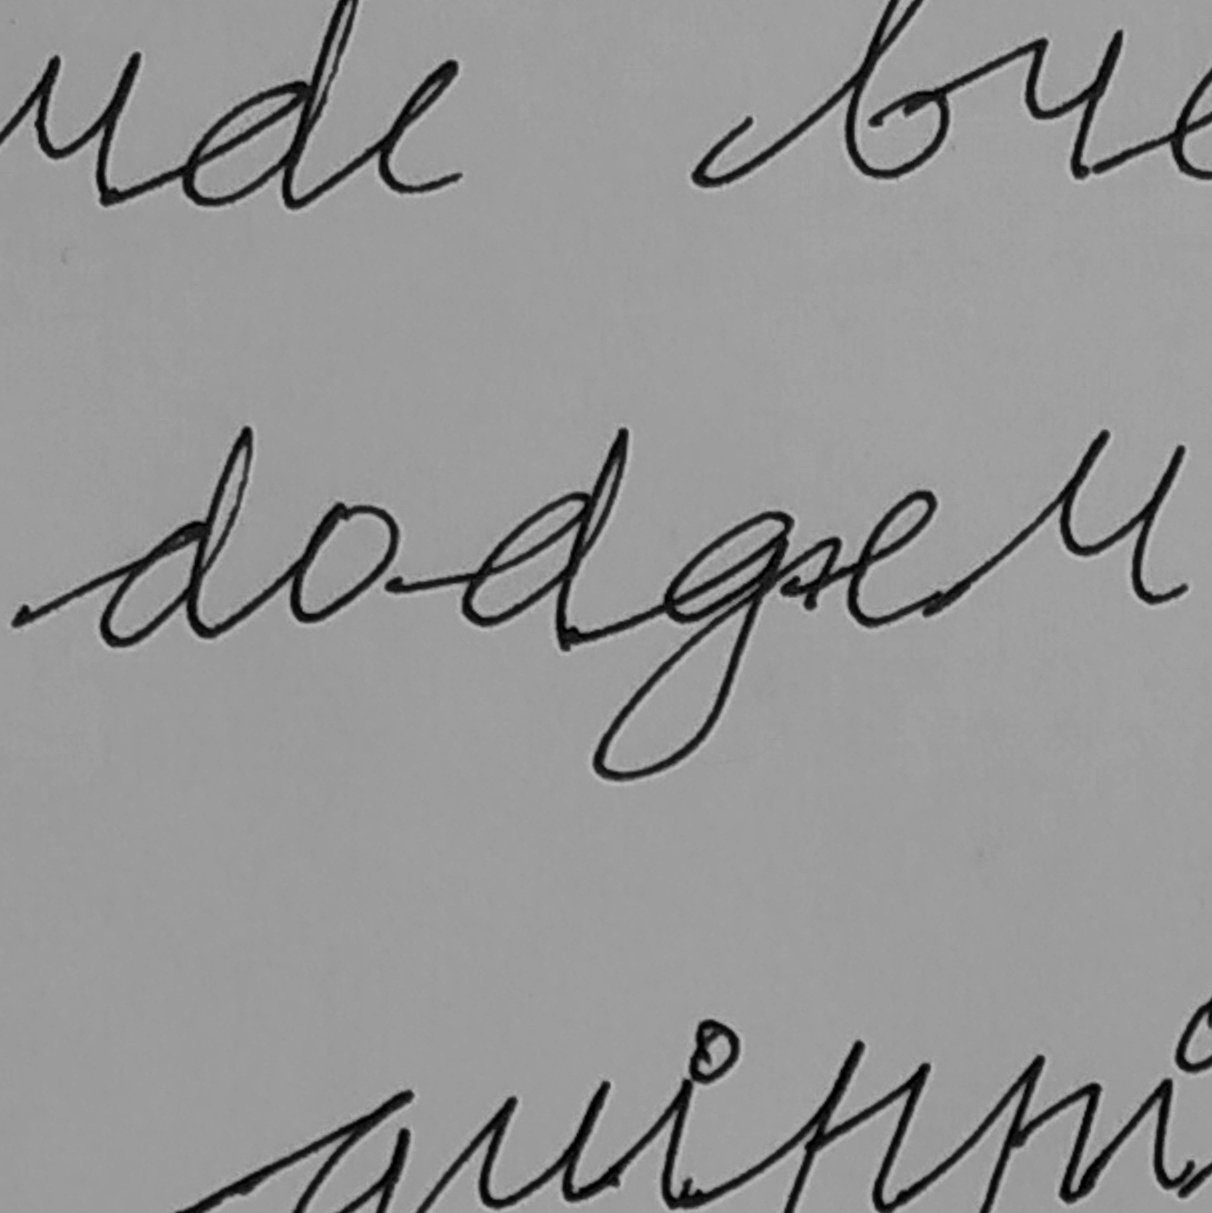d: (457, 425, 632, 651), (95, 422, 257, 651)
e: (842, 486, 952, 634)
g: (587, 506, 797, 784)
o: (286, 499, 402, 628)
r: (1034, 426, 1194, 608)
